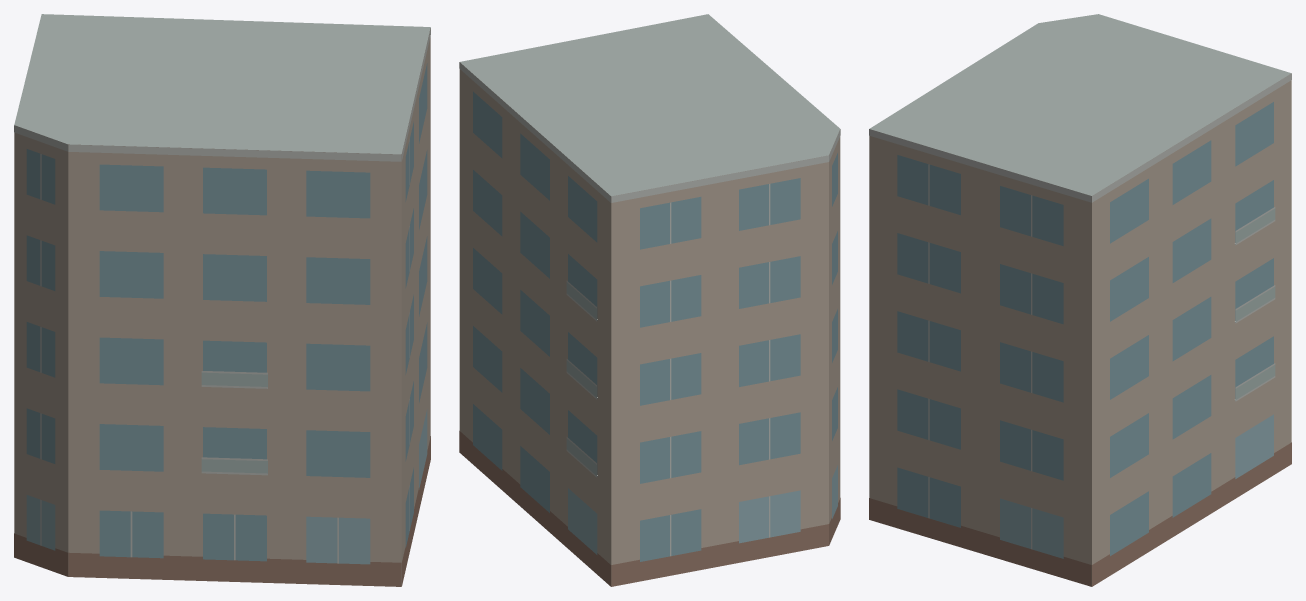
The model's file is survey-upis-33021999.glb.
3 renders of one model, left to right at view 1: azimuth 30°, elevation 25°; view 2: azimuth 150°, elevation 25°; view 3: azimuth 270°, elevation 25°, orthographic. The views are drawn at different scales.
Visible parts, largest first — view 1: survey-upis-33021999.tmp; view 2: survey-upis-33021999.tmp; view 3: survey-upis-33021999.tmp.
Boxes of the visible parts, <box> form: survey-upis-33021999.tmp: <box>14,14,430,586</box>; survey-upis-33021999.tmp: <box>459,14,840,586</box>; survey-upis-33021999.tmp: <box>869,14,1291,586</box>.
Bounding box in the file's own units: 14.2 × 14.2 × 13.93.
